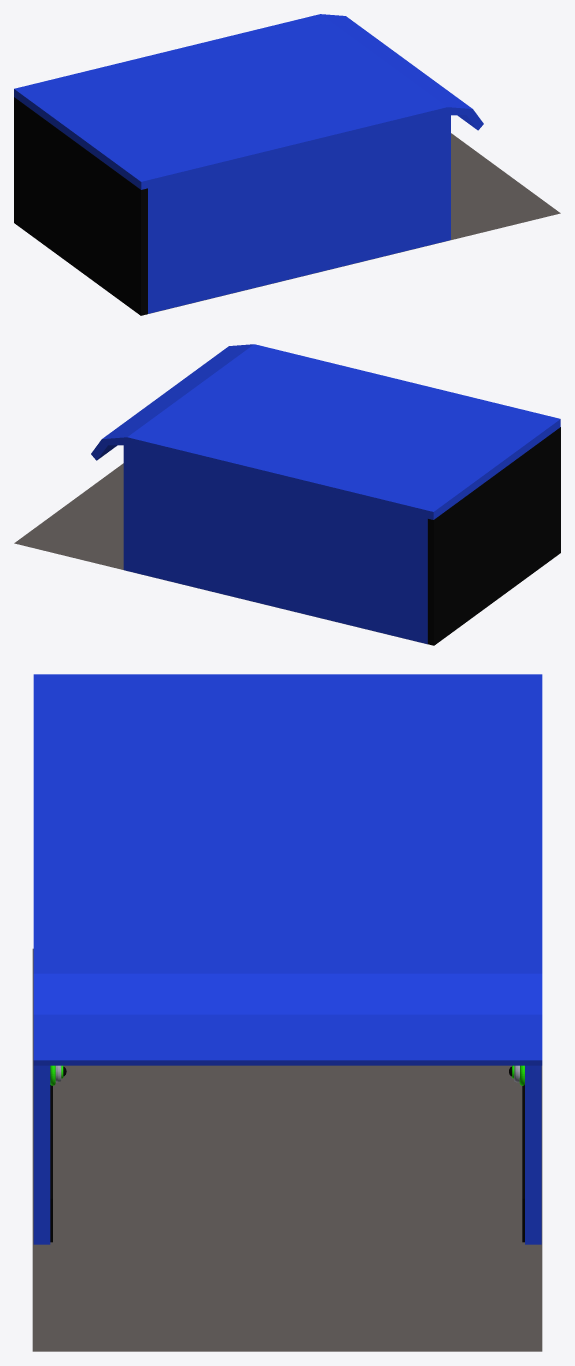
The model's file is car_wash_centre.fbx.
3 renders of one model, top to bottom at view 1: azimuth 30°, elevation 25°; view 2: azimuth 150°, elevation 25°; view 3: azimuth 270°, elevation 25°, orthographic. The views are drawn at different scales.
Parts seen in each view (by area): view 1: Cube, Cube.003, Cube.002, Plane; view 2: Cube, Cube.001, Cube.002, Plane; view 3: Cube, Plane, Cube.003, Cube.001.
Boxes of the visible parts, <box> form: Cube: <box>14,14,483,189</box>; Cube.003: <box>148,115,450,313</box>; Cube.002: <box>14,97,147,315</box>; Plane: <box>148,133,560,313</box>; Cube: <box>91,344,560,519</box>; Cube.001: <box>123,445,427,644</box>; Cube.002: <box>427,427,560,645</box>; Plane: <box>14,463,424,643</box>; Cube: <box>33,674,542,1065</box>; Plane: <box>32,948,542,1351</box>; Cube.003: <box>33,1065,50,1244</box>; Cube.001: <box>525,1065,541,1244</box>.
Bounding box in the file's own units: 1521 × 464 × 799.
